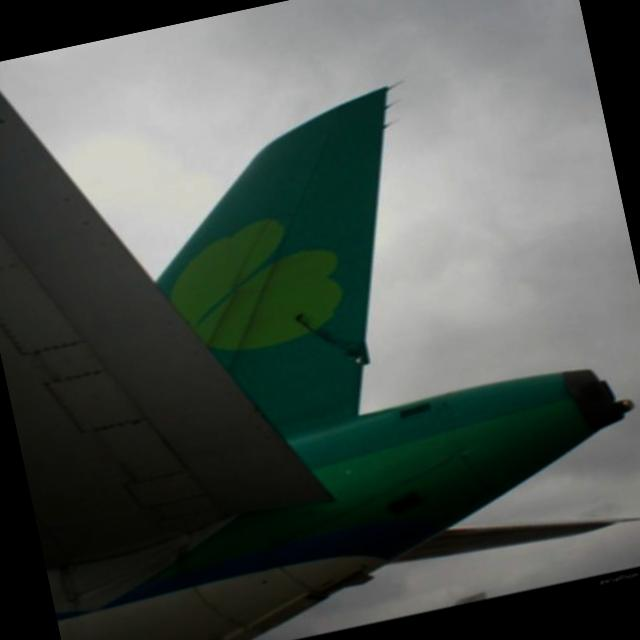crack: (292, 301, 368, 375)
